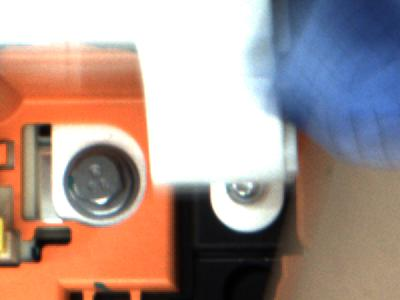nut_b: (60, 145, 141, 223)
